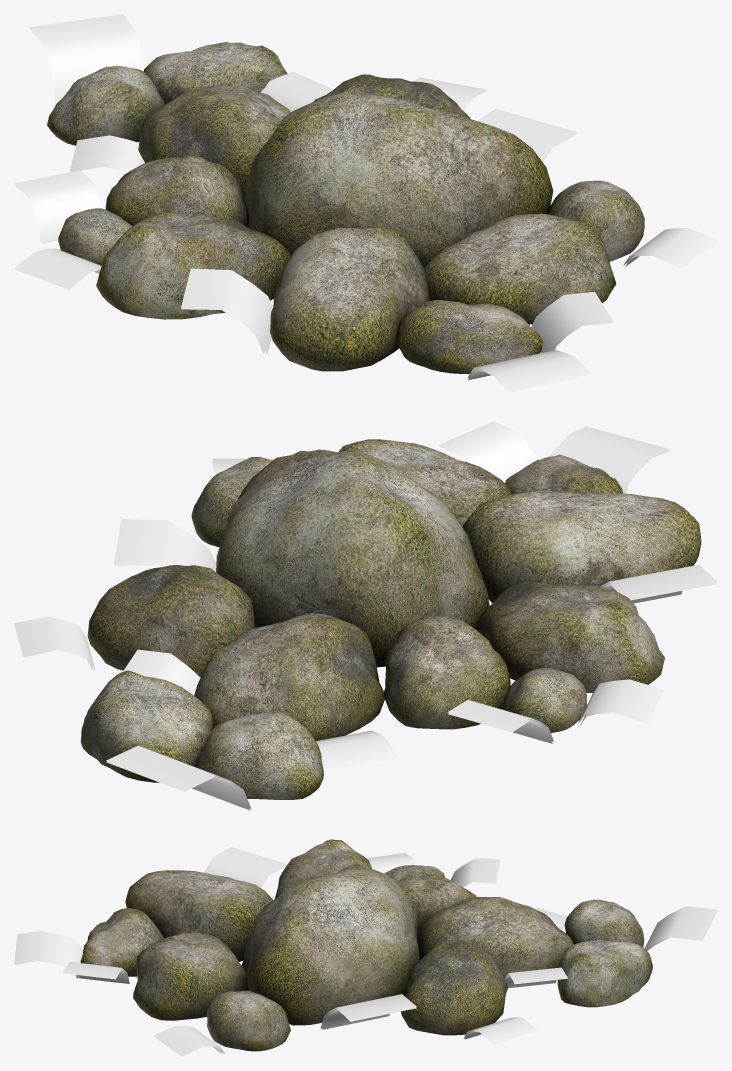
File: StoneBig.fbx
3 views of the same model, one above another, from view 1: azimuth 30°, elevation 25°; view 2: azimuth 150°, elevation 25°; view 3: azimuth 270°, elevation 25° (orthographic). The views are drawn at different scales.
Visible parts, largest first — view 1: prim1, prim0, prim2; view 2: prim1, prim2, prim0; view 3: prim1, prim2, prim0.
Boxes of the visible parts, box(x1,y1,x2,y2) form: prim1: box(244, 91, 717, 392); prim0: box(14, 155, 430, 371); prim2: box(29, 14, 486, 200); prim1: box(114, 421, 669, 667); prim2: box(14, 565, 398, 810); prim0: box(384, 490, 717, 743); prim1: box(14, 864, 419, 1056); prim2: box(401, 897, 717, 1044); prim0: box(125, 839, 500, 961).
Size of the model in its own units: 387 by 90.59 by 566.
